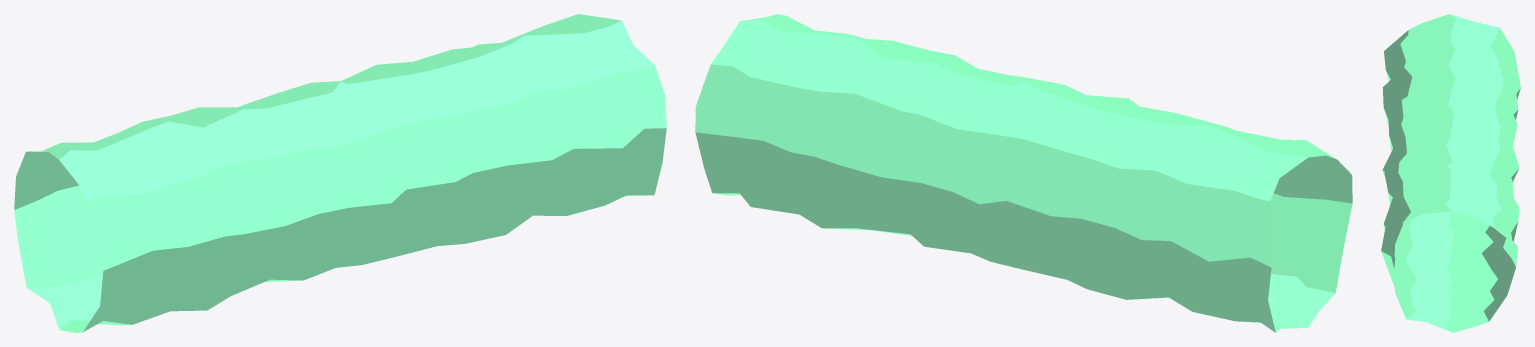
Rendered from timetunnel-inside.glb.
3 renders of one model, left to right at view 1: azimuth 30°, elevation 25°; view 2: azimuth 150°, elevation 25°; view 3: azimuth 270°, elevation 25°, orthographic. The views are drawn at different scales.
Parts seen in each view (by area): view 1: Time Tunnel.inside; view 2: Time Tunnel.inside; view 3: Time Tunnel.inside.
Boxes of the visible parts, x1=… form: Time Tunnel.inside: x1=14, y1=14, x2=666, y2=332; Time Tunnel.inside: x1=695, y1=14, x2=1352, y2=332; Time Tunnel.inside: x1=1381, y1=14, x2=1520, y2=332.
Size of the model in its own units: 16.36 by 4.95 by 4.83.
